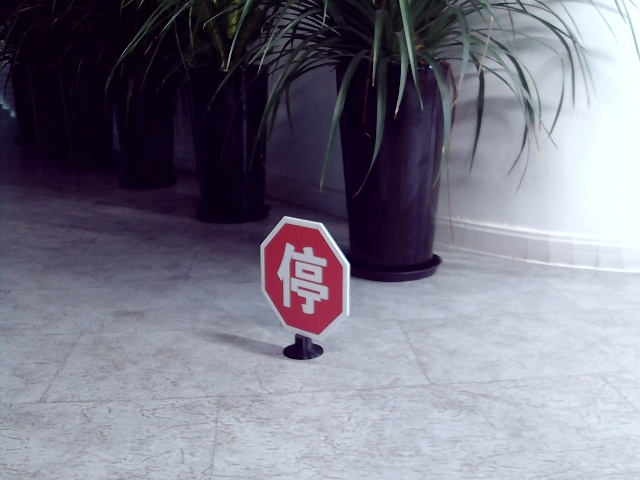stop: (276, 240, 328, 315)
